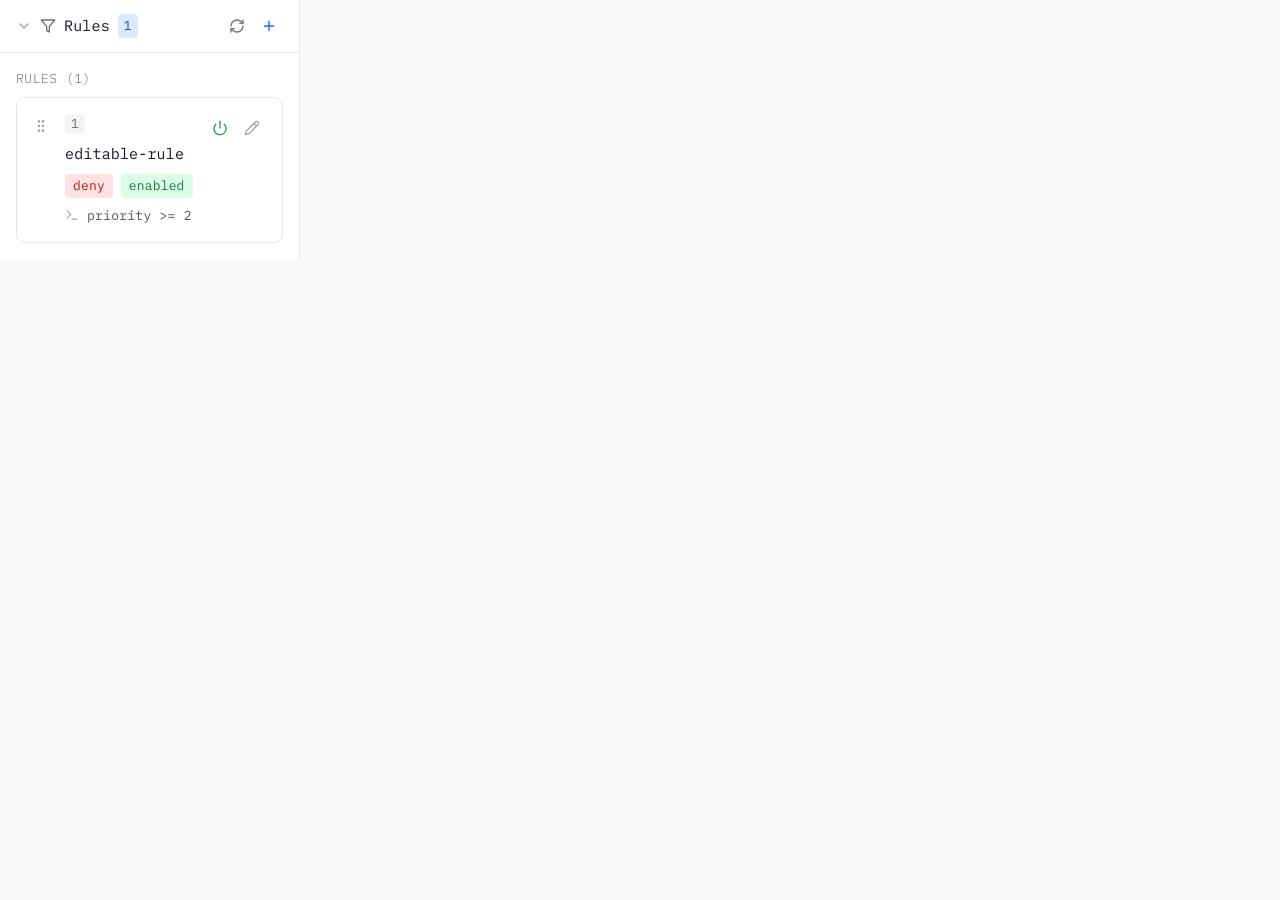
Scenario: RulesPanel › rule actions › opens edit modal when edit button is clicked
The image size is (1280, 900).
Expected: the text "editable-rule" is shown, x1=65 y1=142 x2=184 y2=166
Find and click edit button
What coordinates should you click on to do the following:
click the button titled "edit rule"
I would click on:
 (252, 128)
Its box is x1=238 y1=114 x2=266 y2=142.
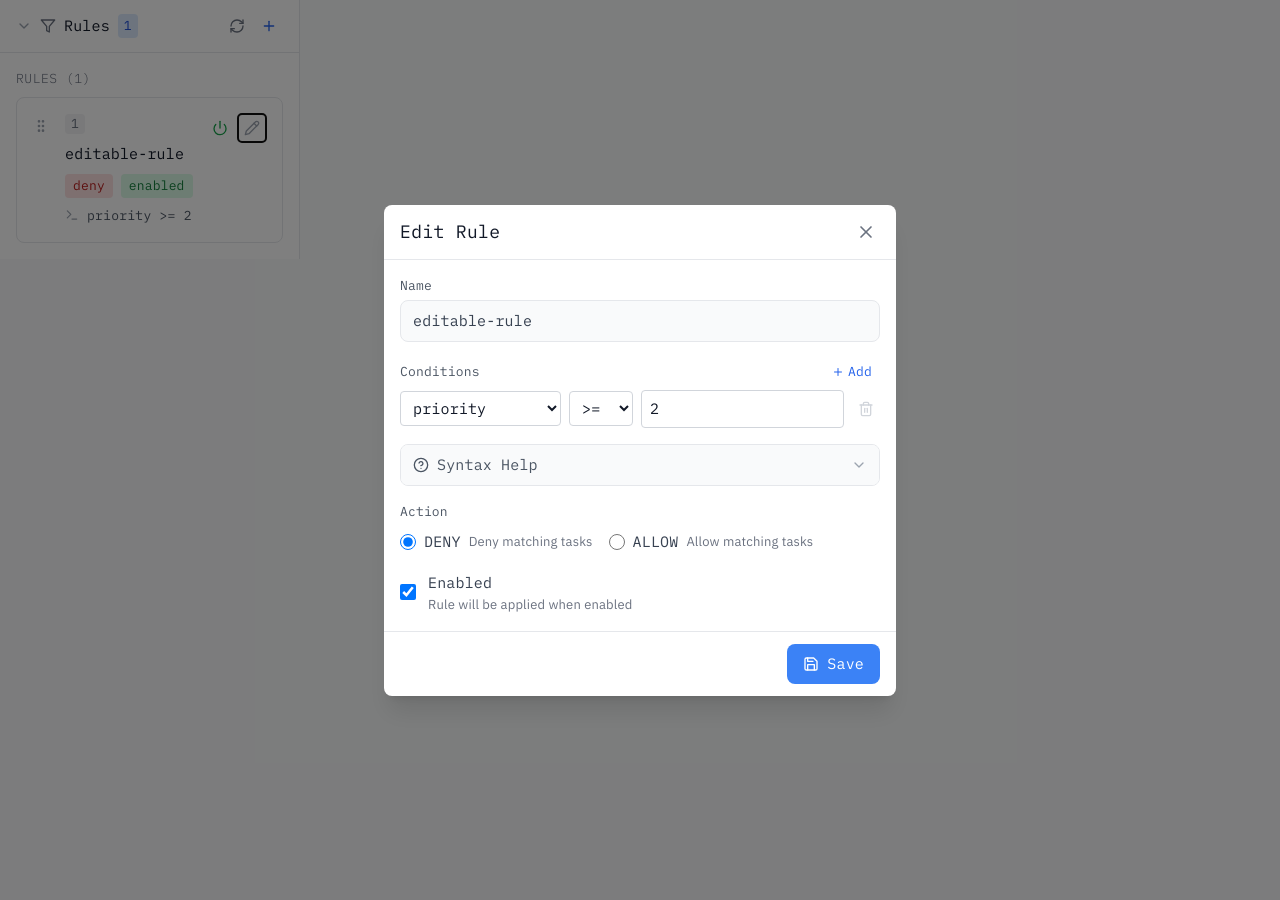
Now the heading "Edit Rule" is shown, box x1=400 y1=216 x2=500 y2=246
